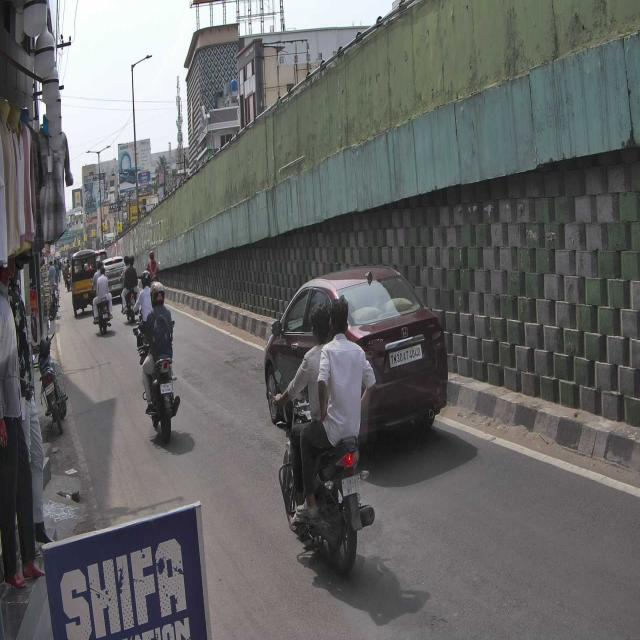double_rider: (273, 291, 377, 579)
